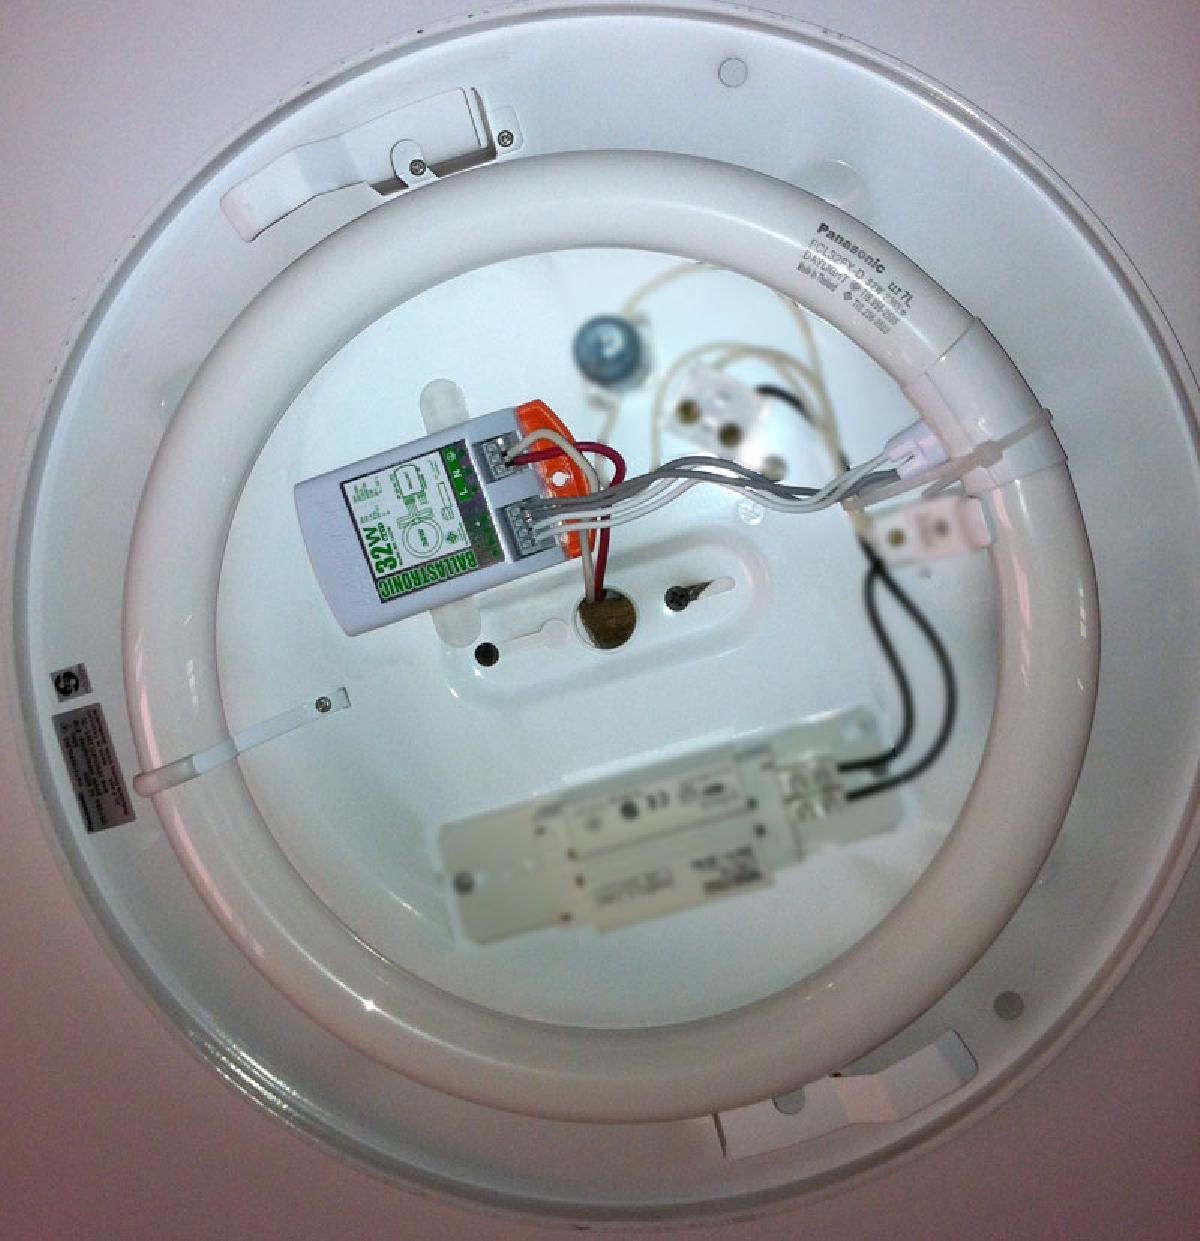Light_bulb: (106, 141, 1112, 1134)
